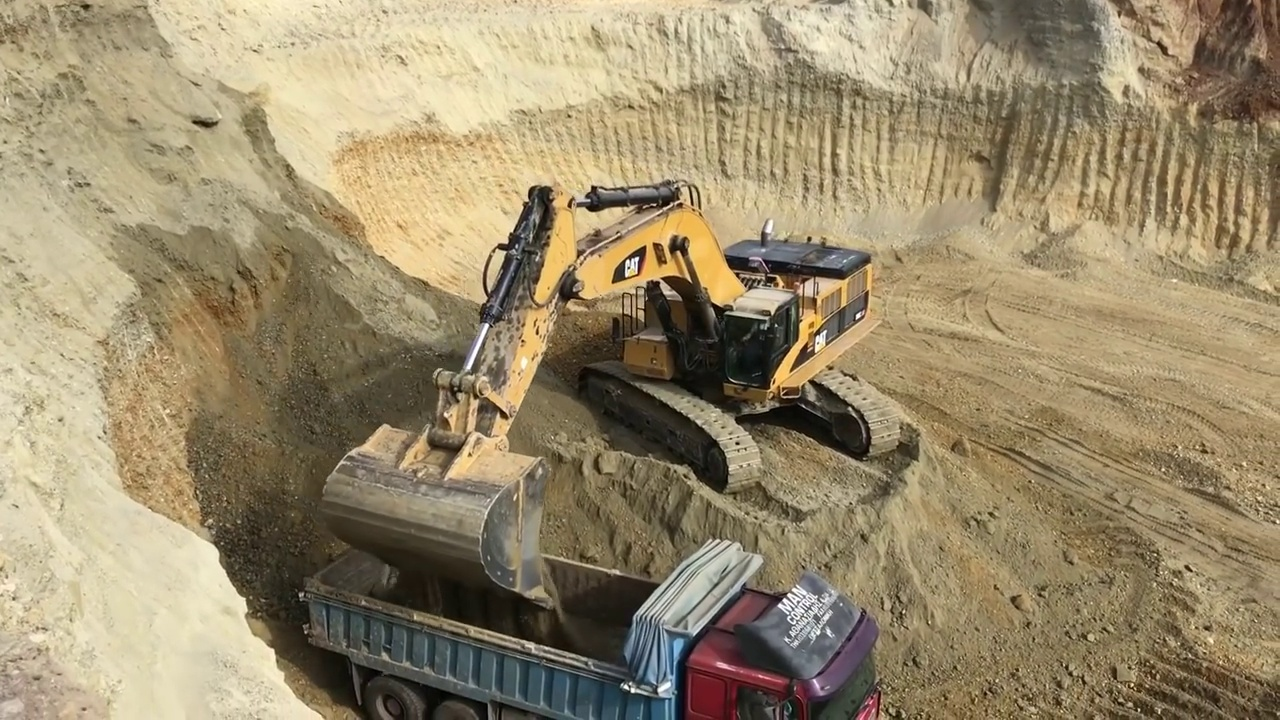excavator: (307, 177, 919, 597)
truck: (297, 529, 889, 720)
